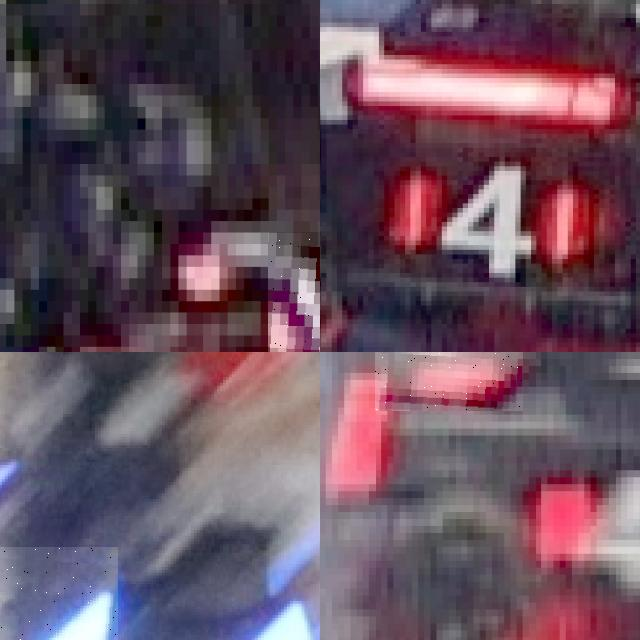B3: (0, 547, 118, 640)
R1: (268, 232, 320, 352)
R4: (389, 157, 594, 278), (516, 446, 640, 606), (375, 352, 522, 411)
